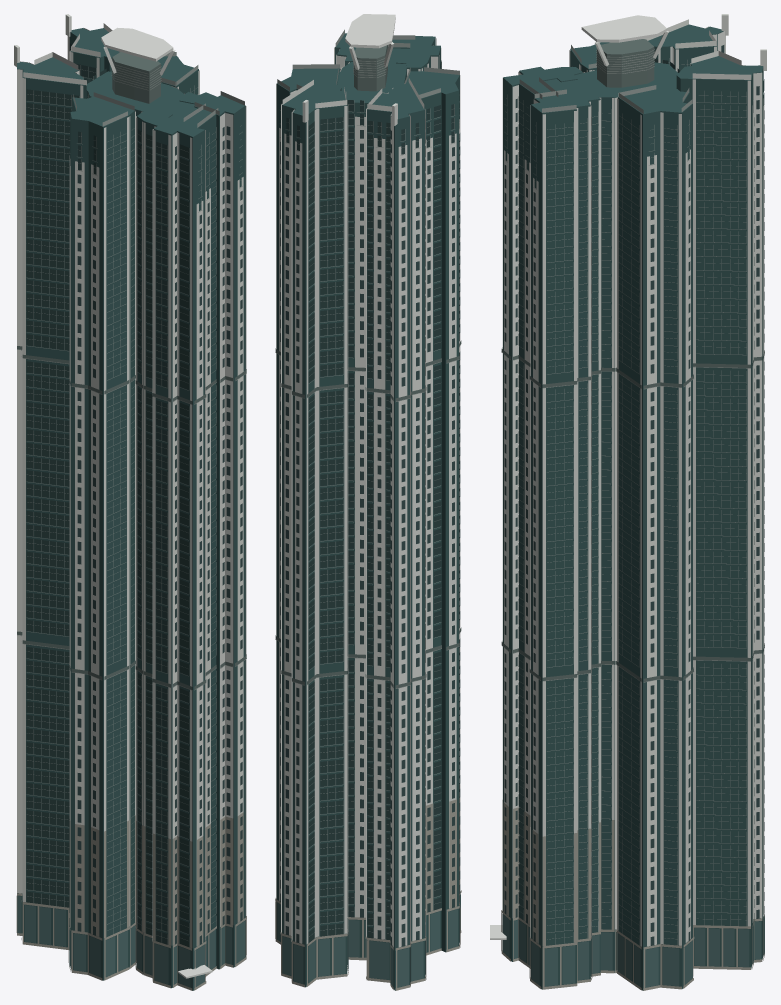
File: bespoke-skyl65-a.glb
3 renders of one model, left to right at view 1: azimuth 30°, elevation 25°; view 2: azimuth 150°, elevation 25°; view 3: azimuth 270°, elevation 25°, orthographic. The views are drawn at different scales.
Parts seen in each view (by area): view 1: A_01_six-wing_concave_structure, A_02_large_white_end_piers001, A_03_glass_bays_and_recessed_windows001_1, A_03_glass_bays_and_recessed_windows001, A_04_fine_mullions_and_refuge_reveals001, A_03_glass_bays_and_recessed_windows001_2, A_02_large_white_end_piers001_1, A_05_asymmetric_penthouse_and_crown001_1, A_06_three-storey_retail_and_entries001_2, A_06_three-storey_retail_and_entries001, A_05_asymmetric_penthouse_and_crown001_4, A_04_fine_mullions_and_refuge_reveals001_1 (+3 smaller); view 2: A_02_large_white_end_piers001, A_01_six-wing_concave_structure, A_03_glass_bays_and_recessed_windows001_1, A_03_glass_bays_and_recessed_windows001_2, A_04_fine_mullions_and_refuge_reveals001, A_05_asymmetric_penthouse_and_crown001_1, A_06_three-storey_retail_and_entries001_2, A_06_three-storey_retail_and_entries001, A_02_large_white_end_piers001_1, A_04_fine_mullions_and_refuge_reveals001_1, A_05_asymmetric_penthouse_and_crown001_3, A_05_asymmetric_penthouse_and_crown001_4 (+2 smaller); view 3: A_03_glass_bays_and_recessed_windows001, A_01_six-wing_concave_structure, A_02_large_white_end_piers001, A_04_fine_mullions_and_refuge_reveals001, A_03_glass_bays_and_recessed_windows001_2, A_06_three-storey_retail_and_entries001_2, A_05_asymmetric_penthouse_and_crown001_1, A_02_large_white_end_piers001_1, A_06_three-storey_retail_and_entries001, A_05_asymmetric_penthouse_and_crown001_4, A_04_fine_mullions_and_refuge_reveals001_1, A_05_asymmetric_penthouse_and_crown001_3 (+2 smaller).
Boxes of the visible parts, x1=… form: A_01_six-wing_concave_structure: x1=17, y1=67, x2=245, y2=990; A_02_large_white_end_piers001: x1=17, y1=28, x2=246, y2=946; A_03_glass_bays_and_recessed_windows001_1: x1=26, y1=43, x2=188, y2=946; A_03_glass_bays_and_recessed_windows001: x1=107, y1=82, x2=241, y2=936; A_04_fine_mullions_and_refuge_reveals001: x1=17, y1=48, x2=246, y2=946; A_03_glass_bays_and_recessed_windows001_2: x1=69, y1=126, x2=242, y2=944; A_02_large_white_end_piers001_1: x1=69, y1=812, x2=243, y2=947; A_05_asymmetric_penthouse_and_crown001_1: x1=17, y1=28, x2=245, y2=137; A_06_three-storey_retail_and_entries001_2: x1=17, y1=896, x2=245, y2=986; A_06_three-storey_retail_and_entries001: x1=16, y1=893, x2=246, y2=990; A_05_asymmetric_penthouse_and_crown001_4: x1=112, y1=52, x2=160, y2=103; A_04_fine_mullions_and_refuge_reveals001_1: x1=17, y1=346, x2=246, y2=689; A_02_large_white_end_piers001: x1=276, y1=38, x2=460, y2=947; A_01_six-wing_concave_structure: x1=276, y1=38, x2=459, y2=990; A_03_glass_bays_and_recessed_windows001_1: x1=286, y1=60, x2=459, y2=942; A_03_glass_bays_and_recessed_windows001_2: x1=280, y1=69, x2=460, y2=946; A_04_fine_mullions_and_refuge_reveals001: x1=275, y1=100, x2=461, y2=938; A_05_asymmetric_penthouse_and_crown001_1: x1=276, y1=33, x2=459, y2=133; A_06_three-storey_retail_and_entries001_2: x1=277, y1=894, x2=460, y2=987; A_06_three-storey_retail_and_entries001: x1=275, y1=890, x2=461, y2=990; A_02_large_white_end_piers001_1: x1=425, y1=785, x2=460, y2=912; A_04_fine_mullions_and_refuge_reveals001_1: x1=275, y1=340, x2=461, y2=688; A_05_asymmetric_penthouse_and_crown001_3: x1=345, y1=14, x2=395, y2=48; A_05_asymmetric_penthouse_and_crown001_4: x1=354, y1=45, x2=387, y2=91; A_03_glass_bays_and_recessed_windows001: x1=505, y1=58, x2=746, y2=945; A_01_six-wing_concave_structure: x1=503, y1=47, x2=763, y2=990; A_02_large_white_end_piers001: x1=502, y1=26, x2=764, y2=946; A_04_fine_mullions_and_refuge_reveals001: x1=501, y1=58, x2=764, y2=945; A_03_glass_bays_and_recessed_windows001_2: x1=504, y1=45, x2=764, y2=945; A_06_three-storey_retail_and_entries001_2: x1=502, y1=914, x2=764, y2=987; A_05_asymmetric_penthouse_and_crown001_1: x1=503, y1=24, x2=763, y2=114; A_02_large_white_end_piers001_1: x1=502, y1=800, x2=614, y2=945; A_06_three-storey_retail_and_entries001: x1=501, y1=909, x2=764, y2=990; A_05_asymmetric_penthouse_and_crown001_4: x1=597, y1=39, x2=654, y2=87; A_04_fine_mullions_and_refuge_reveals001_1: x1=501, y1=347, x2=764, y2=681; A_05_asymmetric_penthouse_and_crown001_3: x1=581, y1=15, x2=667, y2=42.
Bounding box in the file's own units: 35.47 × 196 × 53.04.
